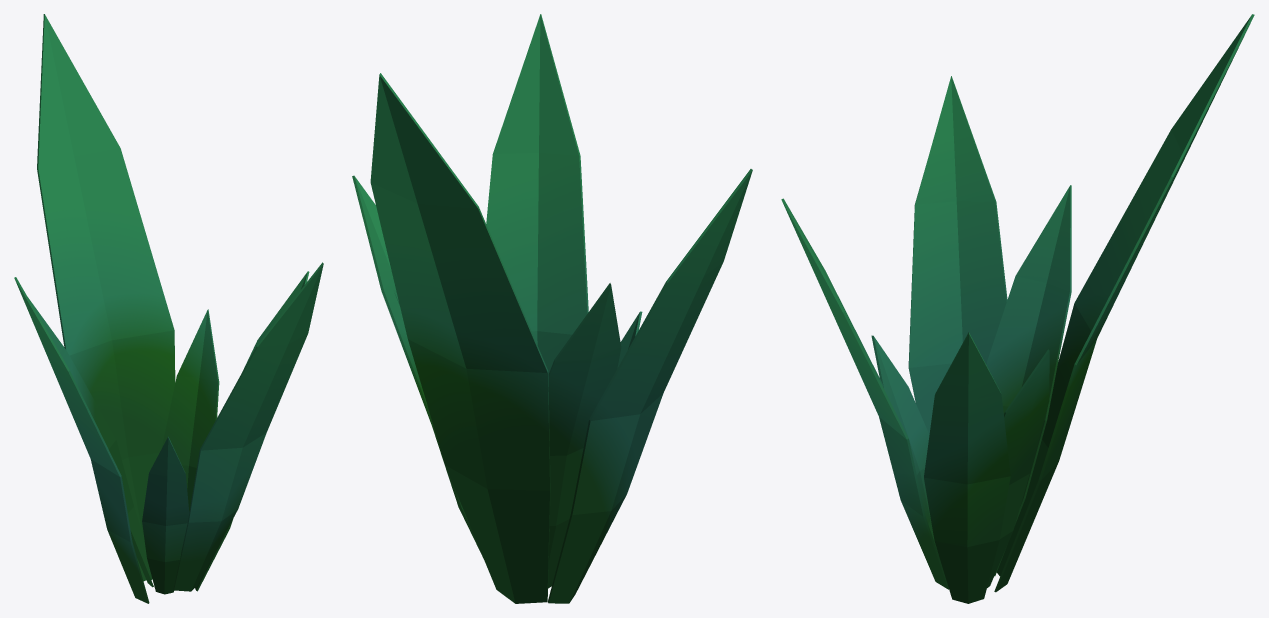
Rendered from Grass_2.fbx.
The picture shows the model from 3 angles, left to right: view 1: azimuth 30°, elevation 25°; view 2: azimuth 150°, elevation 25°; view 3: azimuth 270°, elevation 25°; orthographic projection. The views are drawn at different scales.
Parts seen in each view (by area): view 1: Plane; view 2: Plane; view 3: Plane.
Boxes of the visible parts, left/top/right/bottom form: Plane: left=14, top=14, right=323, bottom=603; Plane: left=352, top=14, right=752, bottom=603; Plane: left=781, top=14, right=1254, bottom=603.
Bounding box in the file's own units: 7.72 × 11.96 × 8.94.
Materials: 2 (2 with a texture image).
